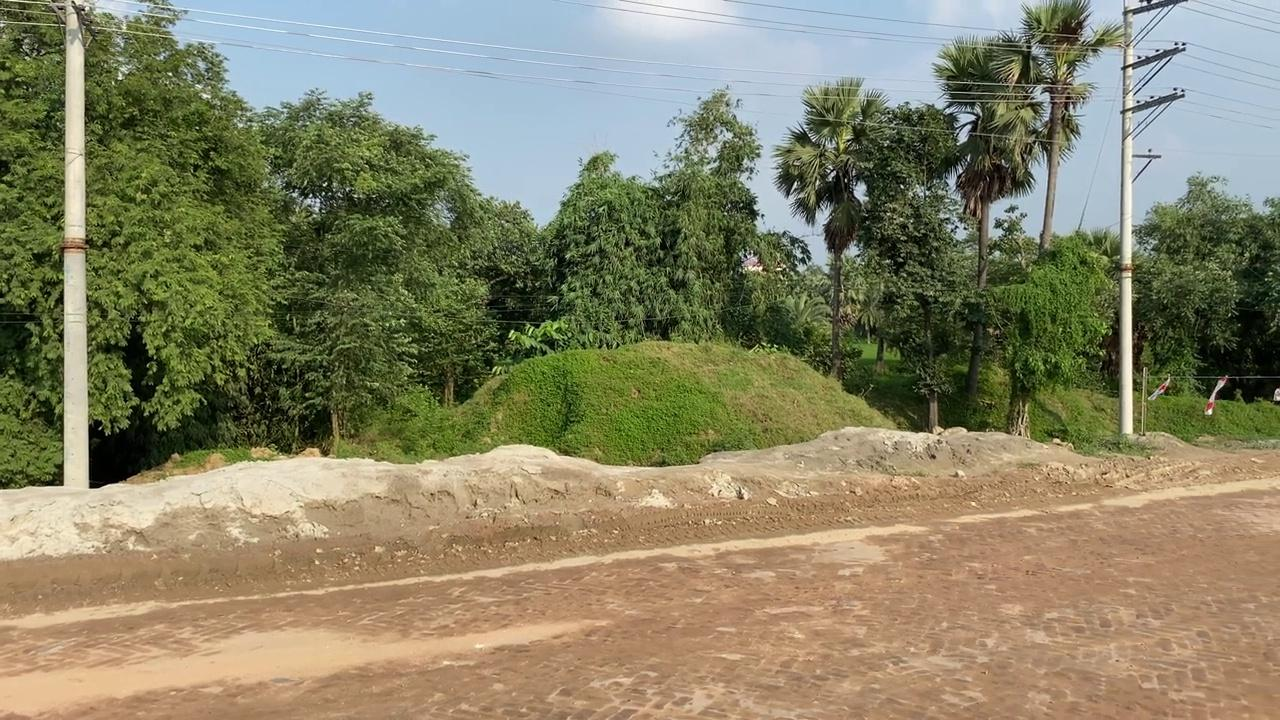Muddy road: (2, 460, 1278, 718)
Pole: (60, 1, 90, 488), (1117, 2, 1135, 435)
Traffic-sign: (252, 86, 487, 456), (930, 33, 1045, 405), (770, 75, 895, 382), (982, 0, 1125, 259), (859, 100, 966, 431)
